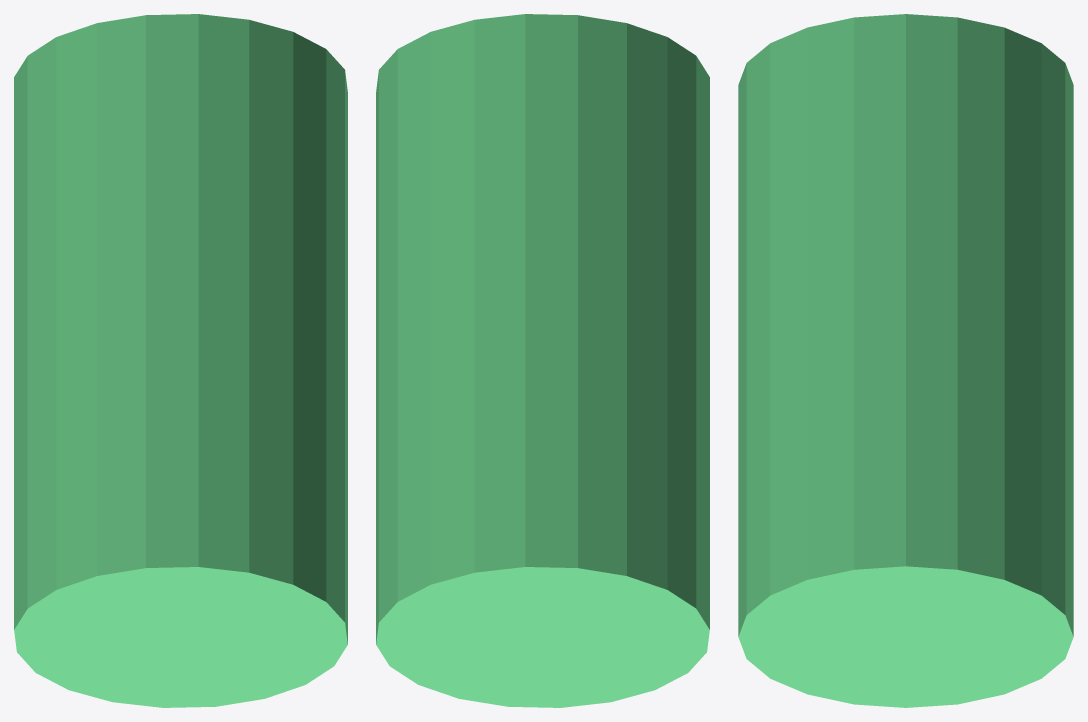
3 views of the same model, side by side, from view 1: azimuth 30°, elevation 25°; view 2: azimuth 150°, elevation 25°; view 3: azimuth 270°, elevation 25° (orthographic).
Visible parts, largest first — view 1: cylinder; view 2: cylinder; view 3: cylinder.
Part boxes in pixels (x1,y1,x2,y2): cylinder: (14,14,347,707); cylinder: (376,14,709,707); cylinder: (738,14,1073,707).
Bounding box in the file's own units: 1.1 × 2 × 1.1.
